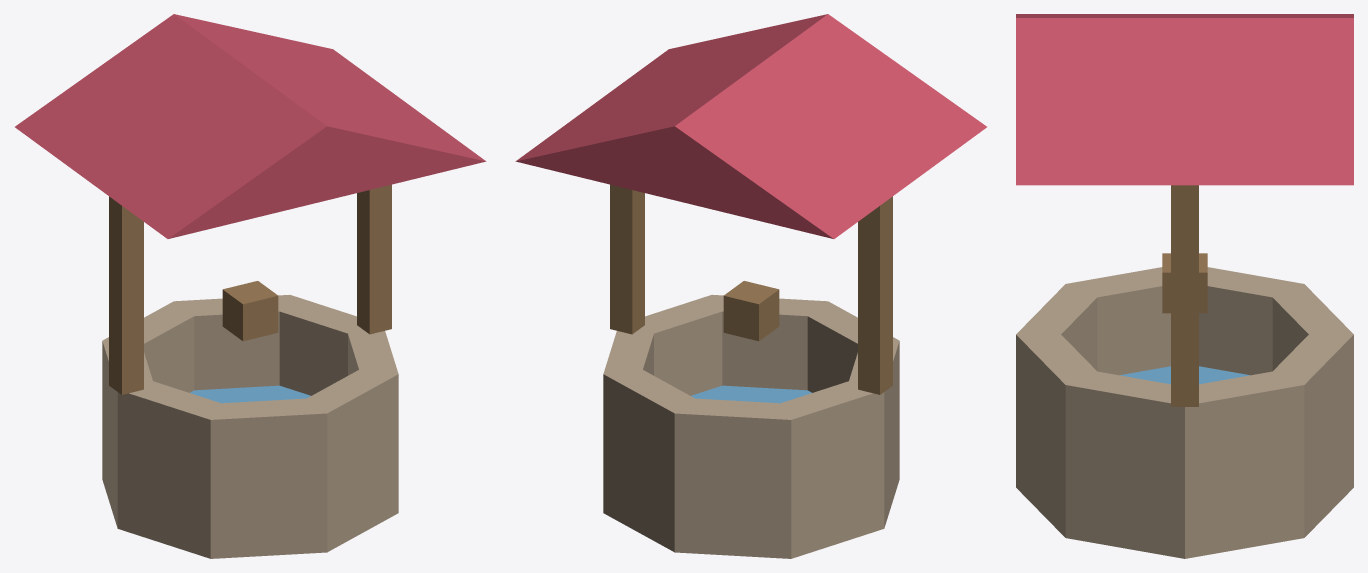
Rendered from well.glb.
3 views of the same model, side by side, from view 1: azimuth 30°, elevation 25°; view 2: azimuth 150°, elevation 25°; view 3: azimuth 270°, elevation 25° (orthographic). The views are drawn at different scales.
Visible parts, largest first — view 1: medieval-well; view 2: medieval-well; view 3: medieval-well.
Boxes of the visible parts, left/top/right/bottom form: medieval-well: left=15, top=14, right=486, bottom=558; medieval-well: left=515, top=14, right=986, bottom=558; medieval-well: left=1016, top=14, right=1353, bottom=558.
Size of the model in its own units: 0.72 by 0.92 by 0.6.
